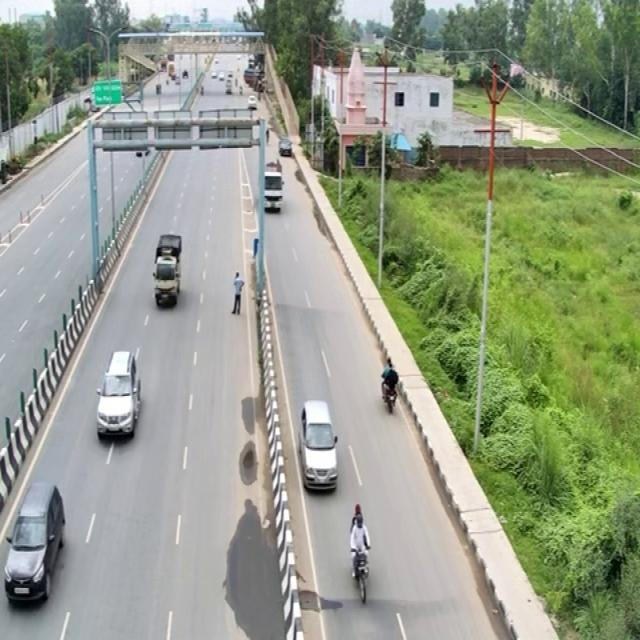car: (1, 357, 94, 454), (125, 260, 196, 332), (393, 295, 456, 370), (195, 167, 252, 233)
